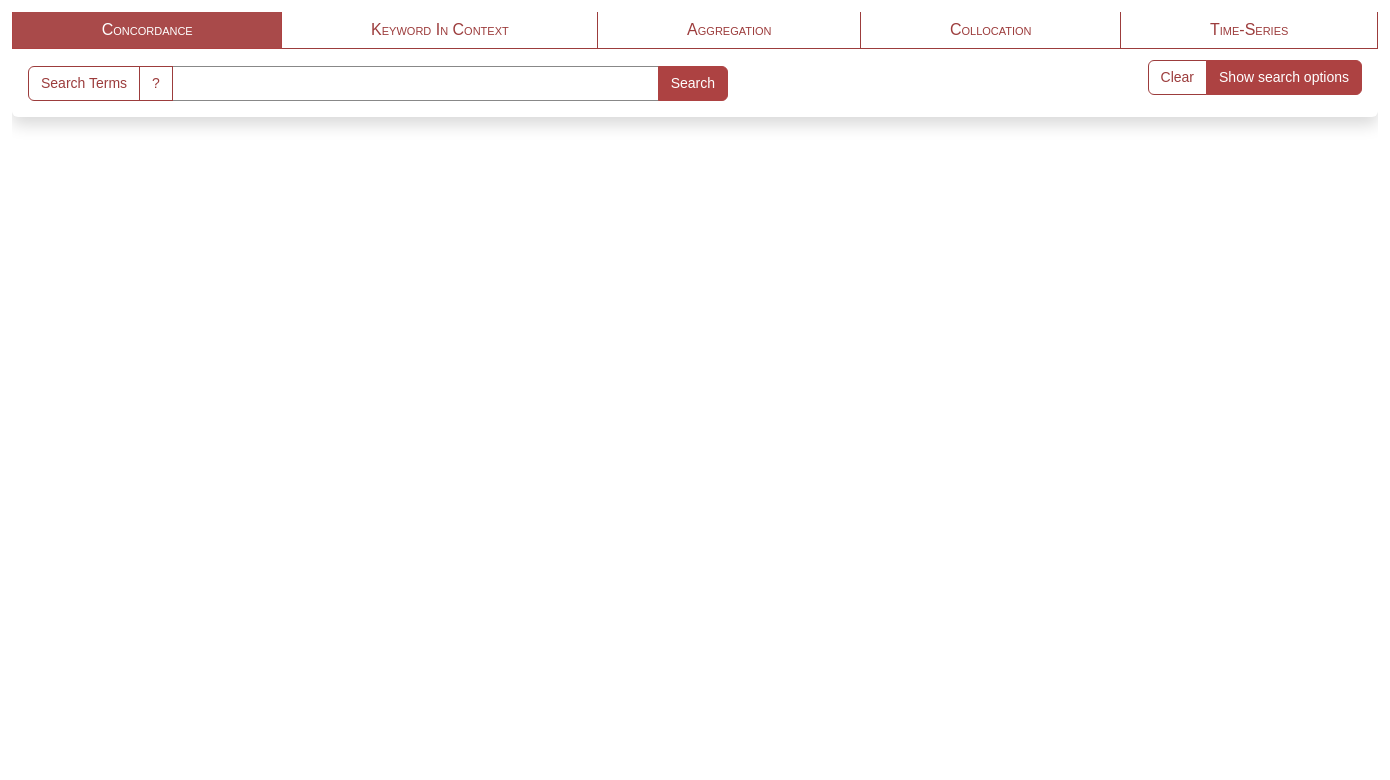
Scenario: SearchForm › shows collocation params when collocation report selected
This screenshot has width=1390, height=780.
Click the button with id "show-search-form".
click(1284, 78)  # box x1=1206 y1=60 x2=1362 y2=95
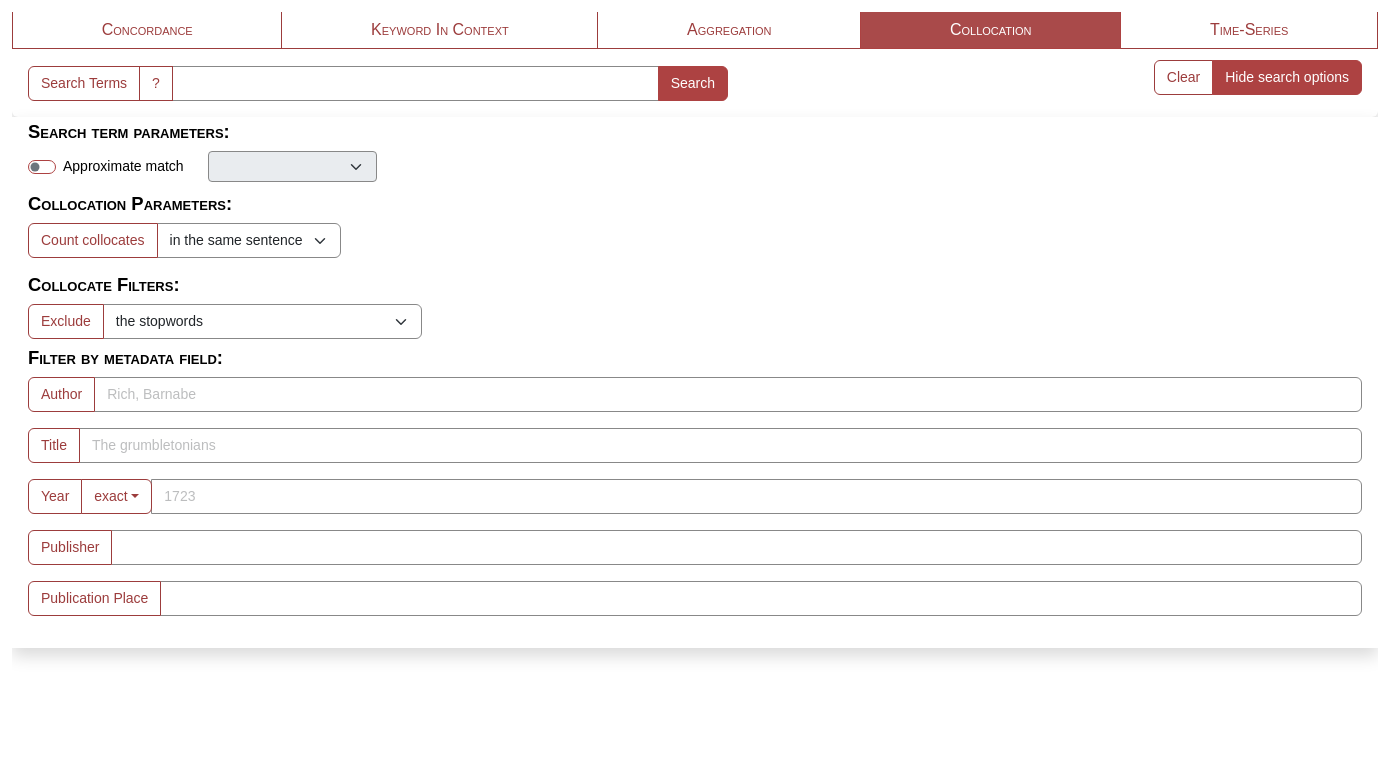
Now the element with id "collocation-params" is shown, box x1=28 y1=193 x2=340 y2=258
